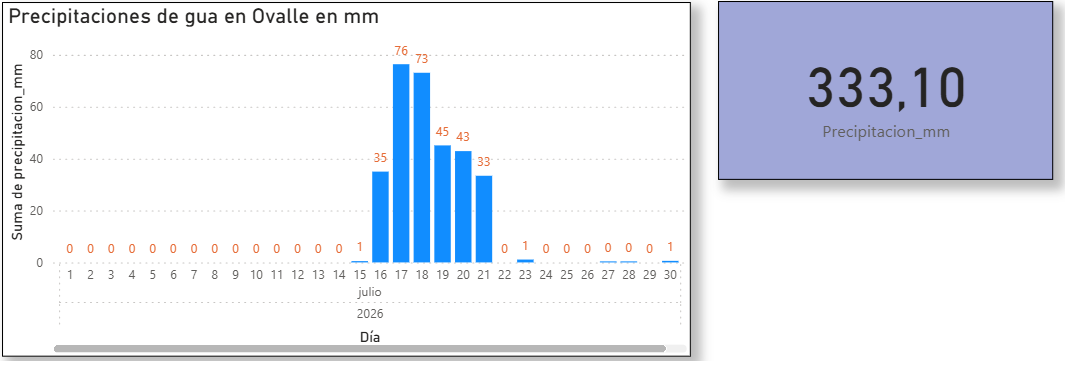

This screenshot's page, from the dashboard's own definition file:
{"tool":"powerbi","page":{"name":"Página 1","canvas":[1280,720],"ordinal":0},"visuals":[{"type":"card","fields":{"Values":["Sum(public precipitaciones_diarias.precipitacion_mm)"]},"box":[750.9,28.2,325.8,174.1],"z":0},{"type":"clusteredColumnChart","title":"Precipitaciones de gua en Ovalle en mm","fields":{"Category":["public precipitaciones_diarias.fecha.Variación.Jerarquía de fechas.Año","public precipitaciones_diarias.fecha.Variación.Jerarquía de fechas.Mes","public precipitaciones_diarias.fecha.Variación.Jerarquía de fechas.Día"],"Y":["Sum(public precipitaciones_diarias.precipitacion_mm)"]},"box":[54.5,29.2,670.2,345.3],"z":1}]}

Visuals, with their boxes on the page's 1280x720 design canvas (x1, y1, x2, y2). These are canvas units, not pixel positions in the 1065x365 screenshot, which may show the page scaled, cropped or inside an application window:
card - Sum(public precipitaciones_diarias.precipitacion_mm): <region>751, 28, 1077, 202</region>
"Precipitaciones de gua en Ovalle en mm" clusteredColumnChart: <region>54, 29, 725, 374</region>
